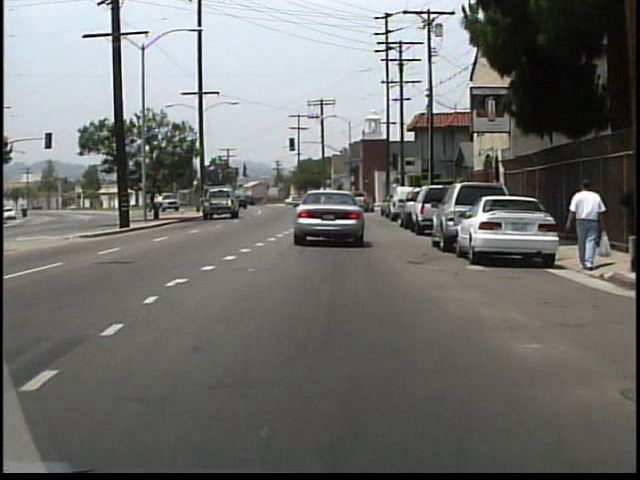person: (565, 174, 606, 272)
